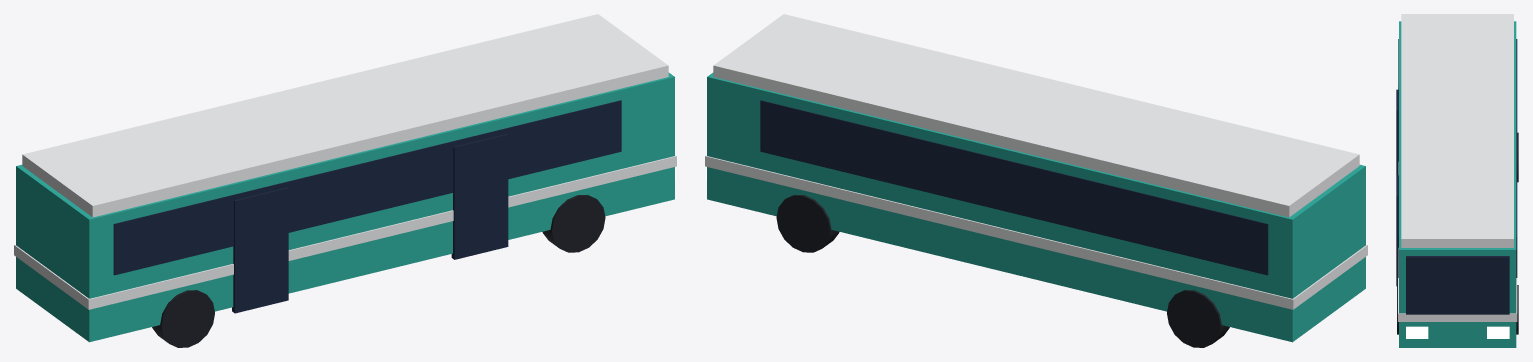
File: bus.glb
The picture shows the model from 3 angles, left to right: view 1: azimuth 30°, elevation 25°; view 2: azimuth 150°, elevation 25°; view 3: azimuth 270°, elevation 25°; orthographic projection. The views are drawn at different scales.
Parts seen in each view (by area): view 1: Roof, Body, Windows, Door (×2), Stripe, Wheel (×2); view 2: Roof, Body, Windows, Stripe, Wheel (×2); view 3: Roof, Windshield, Body, Stripe, Windows, Lamp (×2), Door (×2), Wheel.
Part boxes in pixels (x1=…): Roof: x1=22, y1=14, x2=668, y2=217; Body: x1=16, y1=72, x2=674, y2=342; Windows: x1=113, y1=100, x2=621, y2=275; Door (×2): x1=232, y1=134, x2=508, y2=313; Stripe: x1=14, y1=155, x2=676, y2=309; Wheel (×2): x1=152, y1=194, x2=605, y2=347; Roof: x1=713, y1=14, x2=1359, y2=217; Body: x1=707, y1=72, x2=1365, y2=342; Windows: x1=760, y1=100, x2=1268, y2=275; Stripe: x1=705, y1=155, x2=1367, y2=309; Wheel (×2): x1=776, y1=194, x2=1229, y2=347; Roof: x1=1401, y1=14, x2=1513, y2=247; Windshield: x1=1406, y1=256, x2=1509, y2=314; Body: x1=1399, y1=21, x2=1516, y2=347; Stripe: x1=1398, y1=84, x2=1517, y2=321; Windows: x1=1398, y1=39, x2=1517, y2=277; Lamp (×2): x1=1406, y1=326, x2=1509, y2=338; Door (×2): x1=1396, y1=89, x2=1398, y2=286; Wheel: x1=1516, y1=285, x2=1518, y2=334.
Size of the model in its own units: 12.14 by 3.18 by 2.71.
